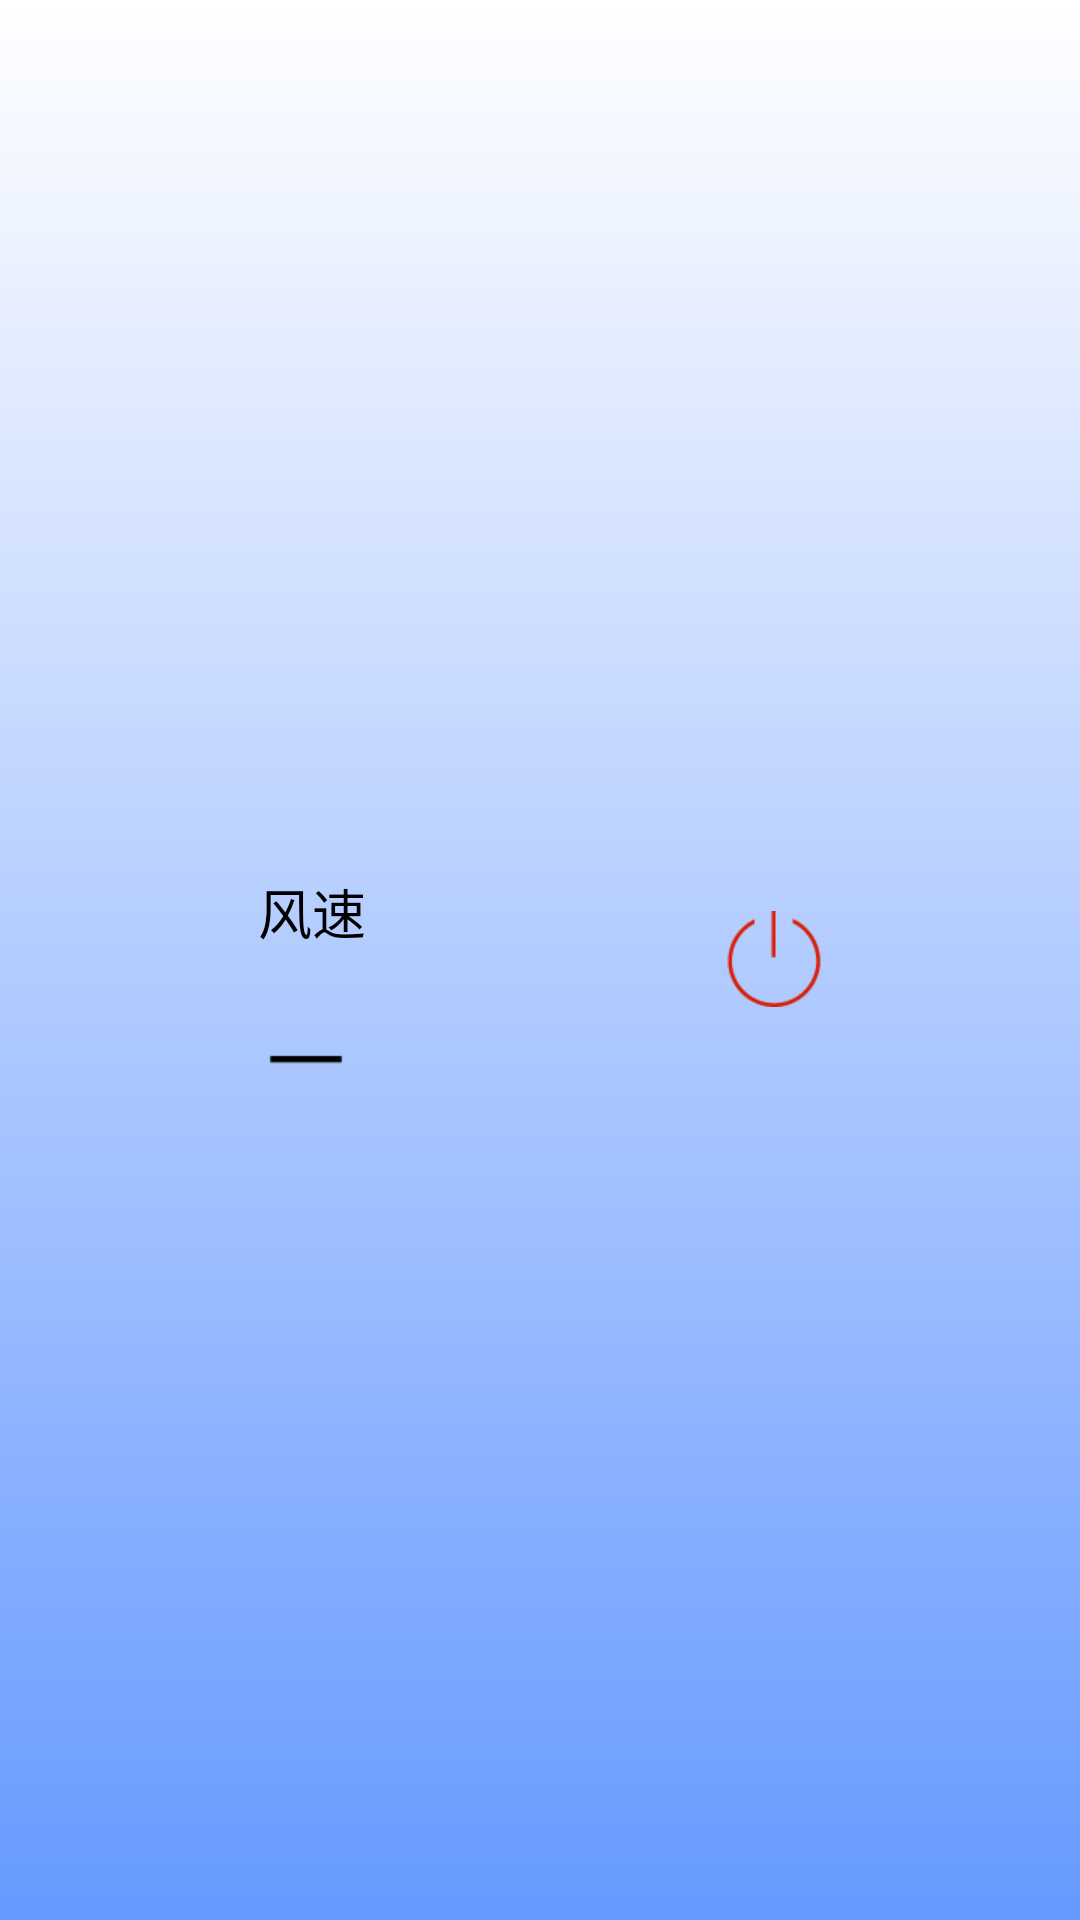

Screen size 1080 × 1920. Icon name, then its center in pixels as (x=x, y=y):
off: (x=774, y=959)
